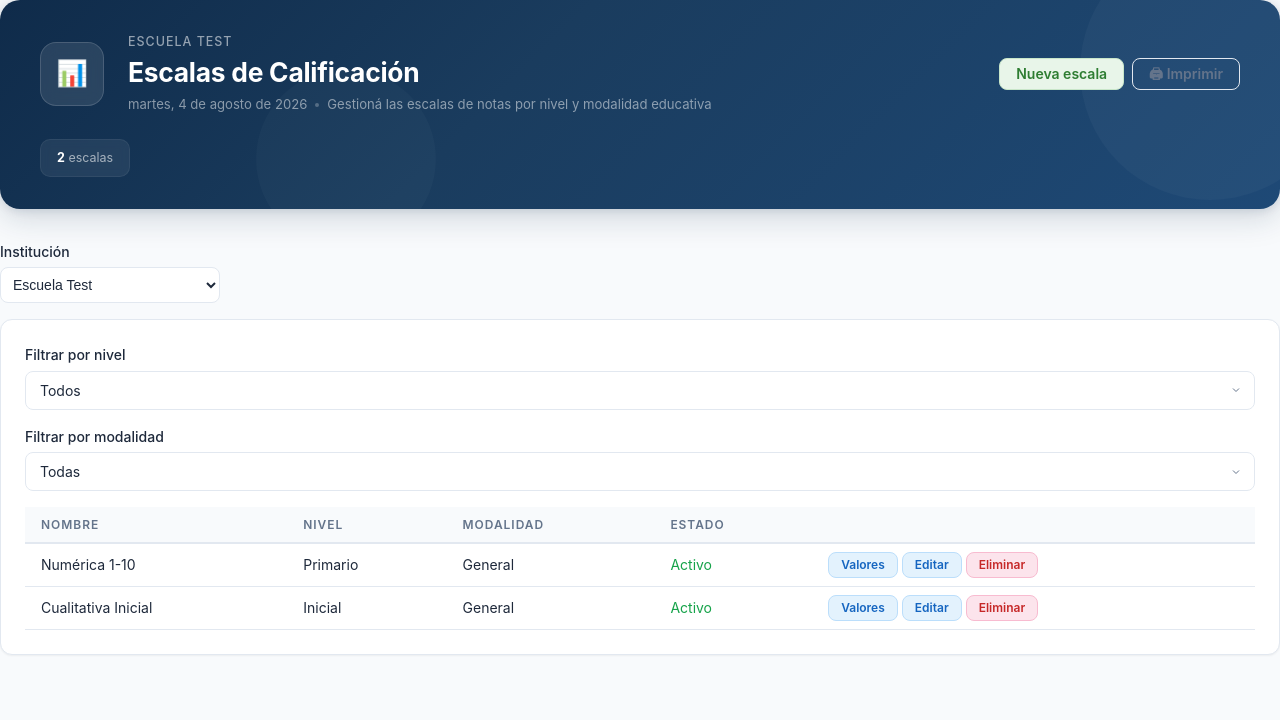
it: GradingScalesPage — delete scale error handling › shows the real server error message when delete fails, instead of a generic alert
Expected: the text "Numérica 1-10" is shown, x1=25 y1=543 x2=287 y2=587
Open delete confirmation modal for the first scale row
Step 1. Click the button "Eliminar" in the row of "Numérica 1-10" → {"x": 1002, "y": 565}, box x1=966 y1=552 x2=1038 y2=578
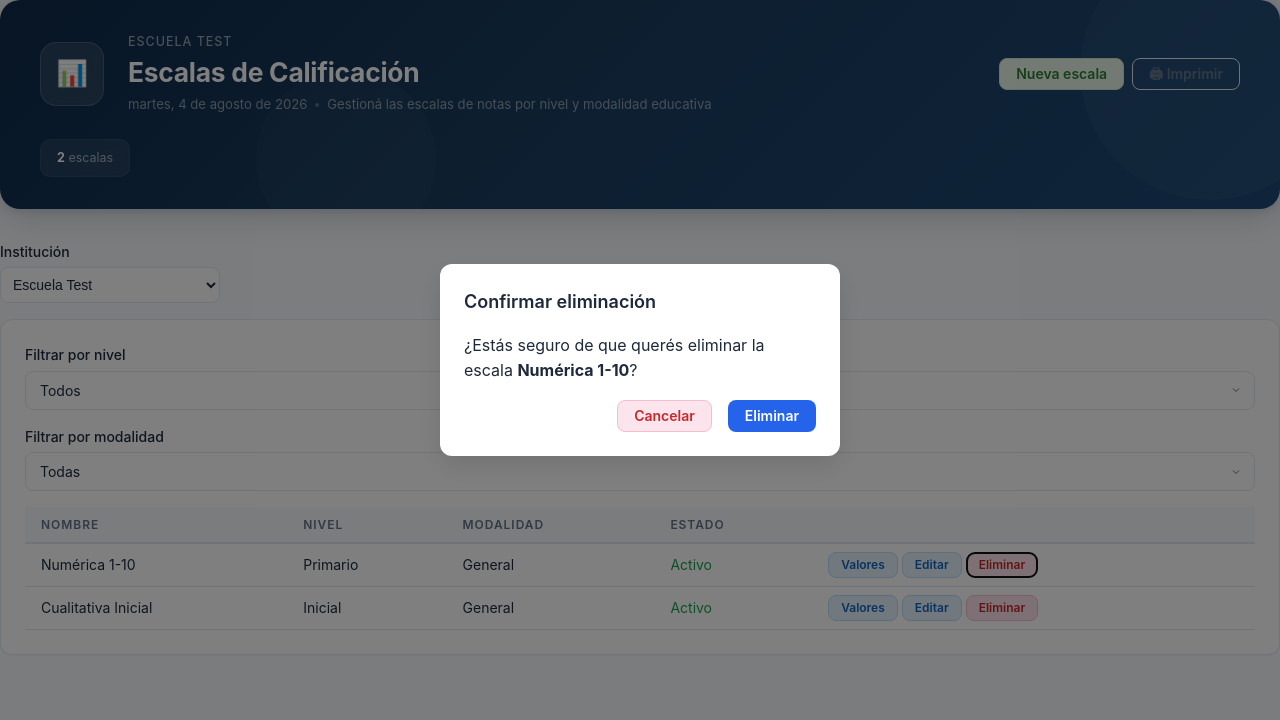
Expected: the heading "Confirmar eliminación" is shown, x1=464 y1=291 x2=656 y2=312
Confirm deletion — the modal's confirm button is the last "Eliminar" button in the DOM
Step 2. Click the button "Eliminar" → {"x": 772, "y": 416}, box x1=728 y1=400 x2=816 y2=432
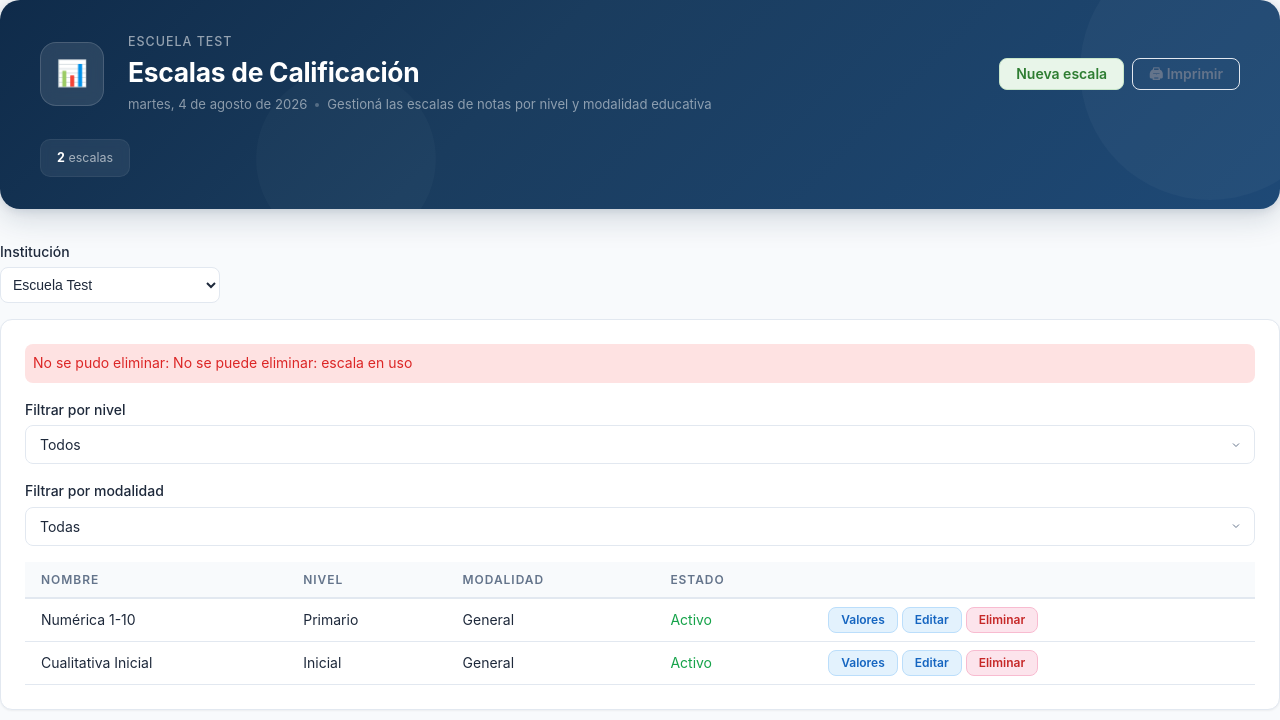
Expected: the text "No se pudo eliminar: No se puede eliminar: escala en uso" is shown, x1=25 y1=344 x2=1255 y2=383
